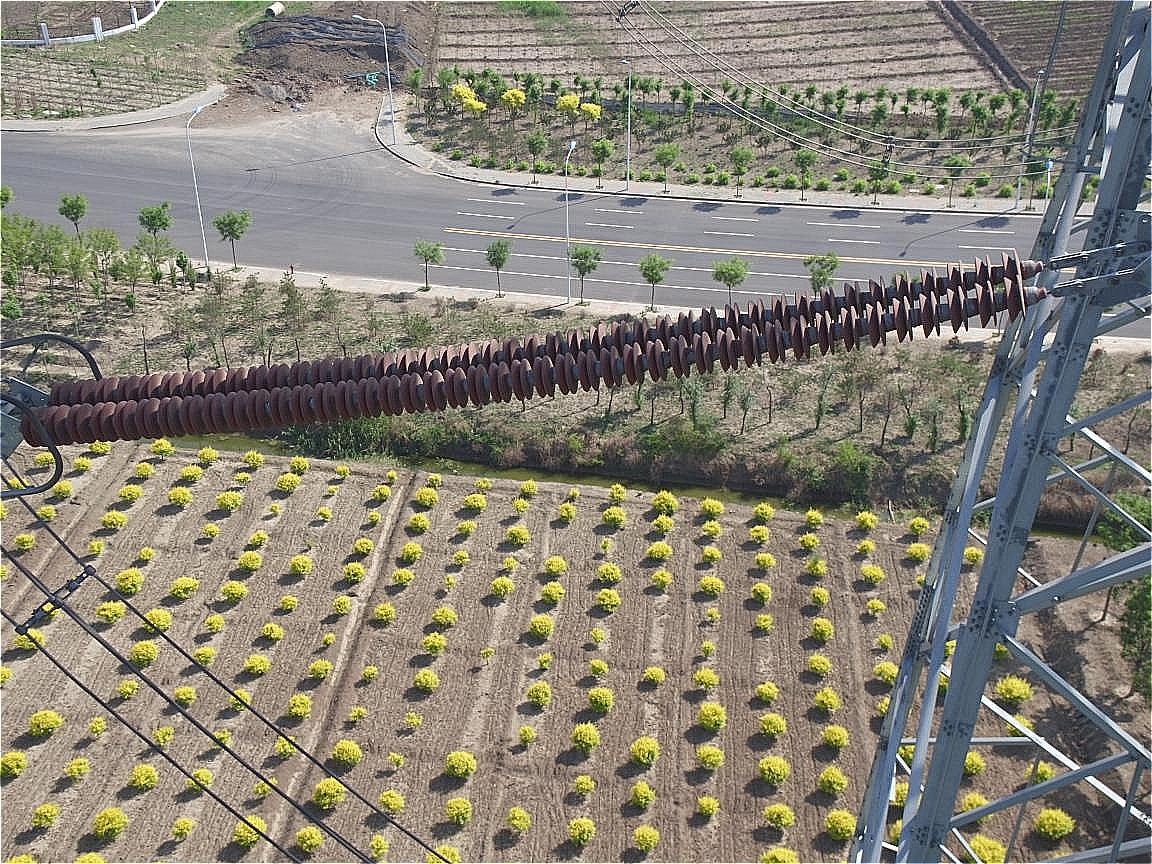insultor2: (20, 251, 1027, 446)
